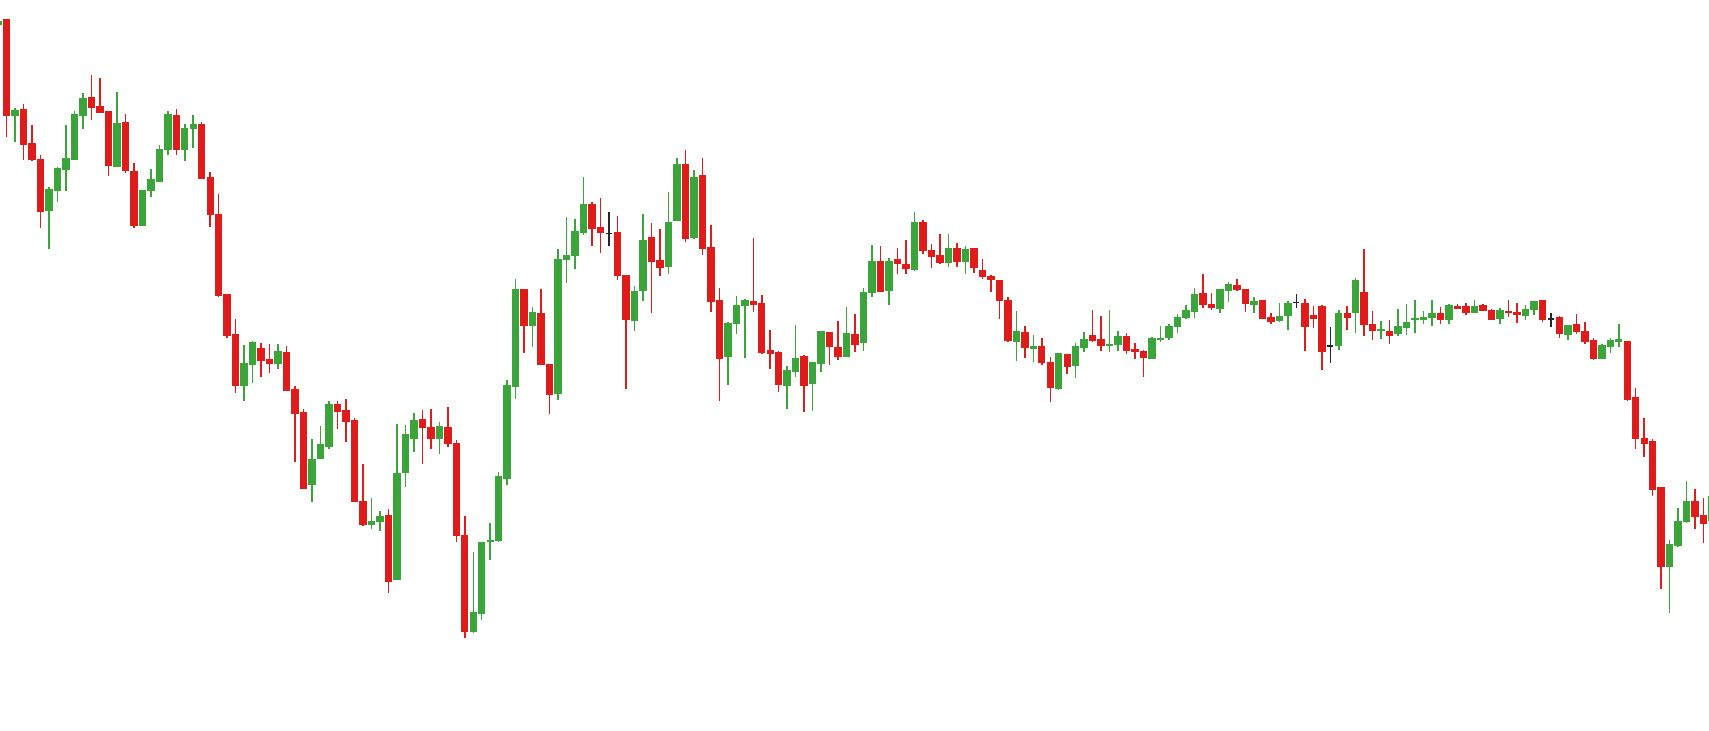buy: (385, 465, 488, 642), (620, 252, 735, 407)
